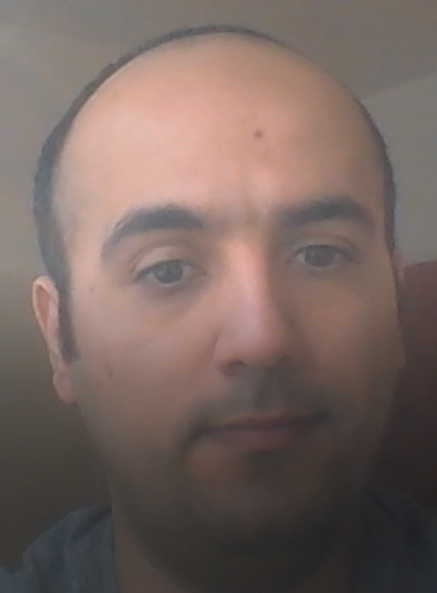Not Sleeping: (94, 194, 388, 310)
